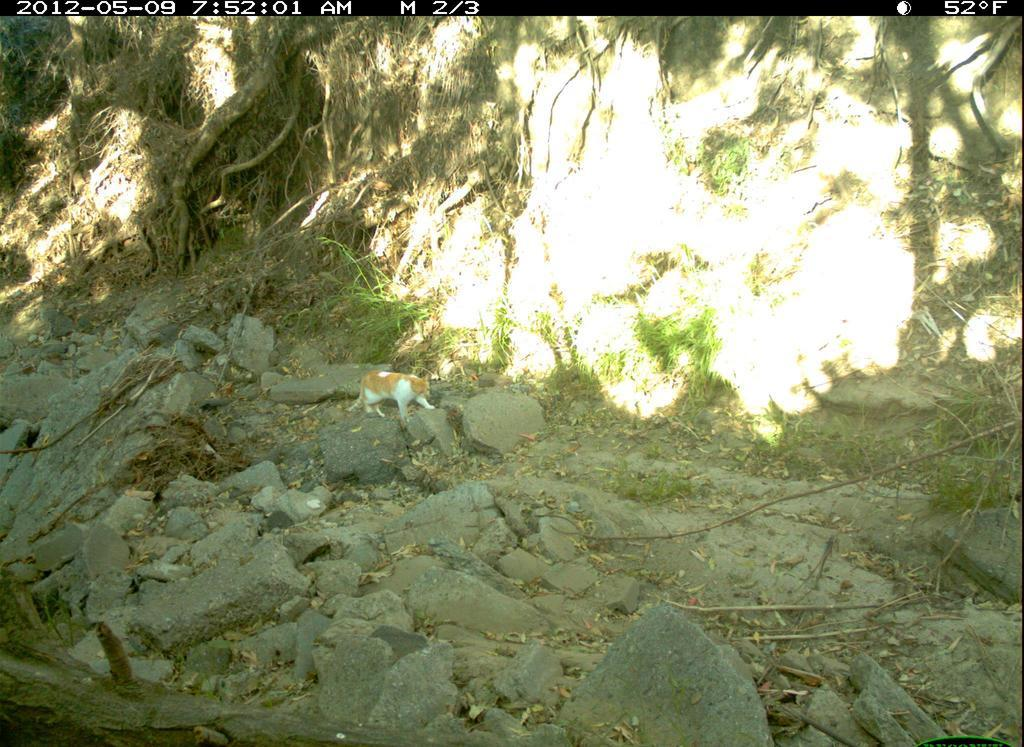cat: (350, 367, 441, 423)
